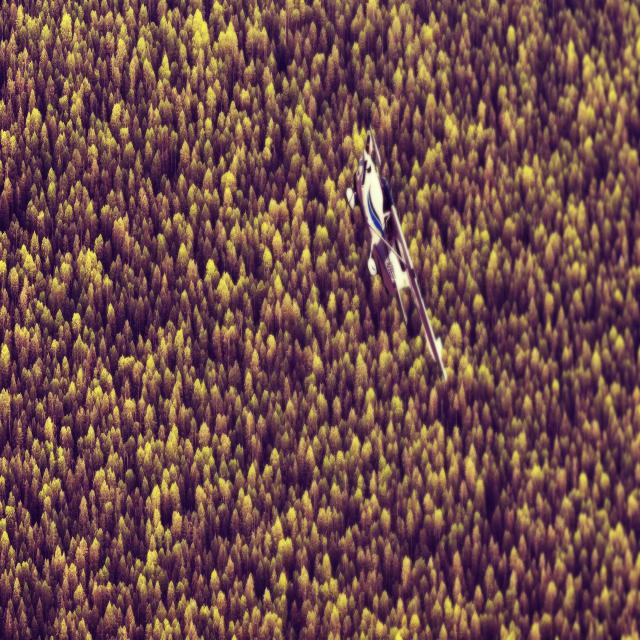airplane: (345, 125, 447, 382)
